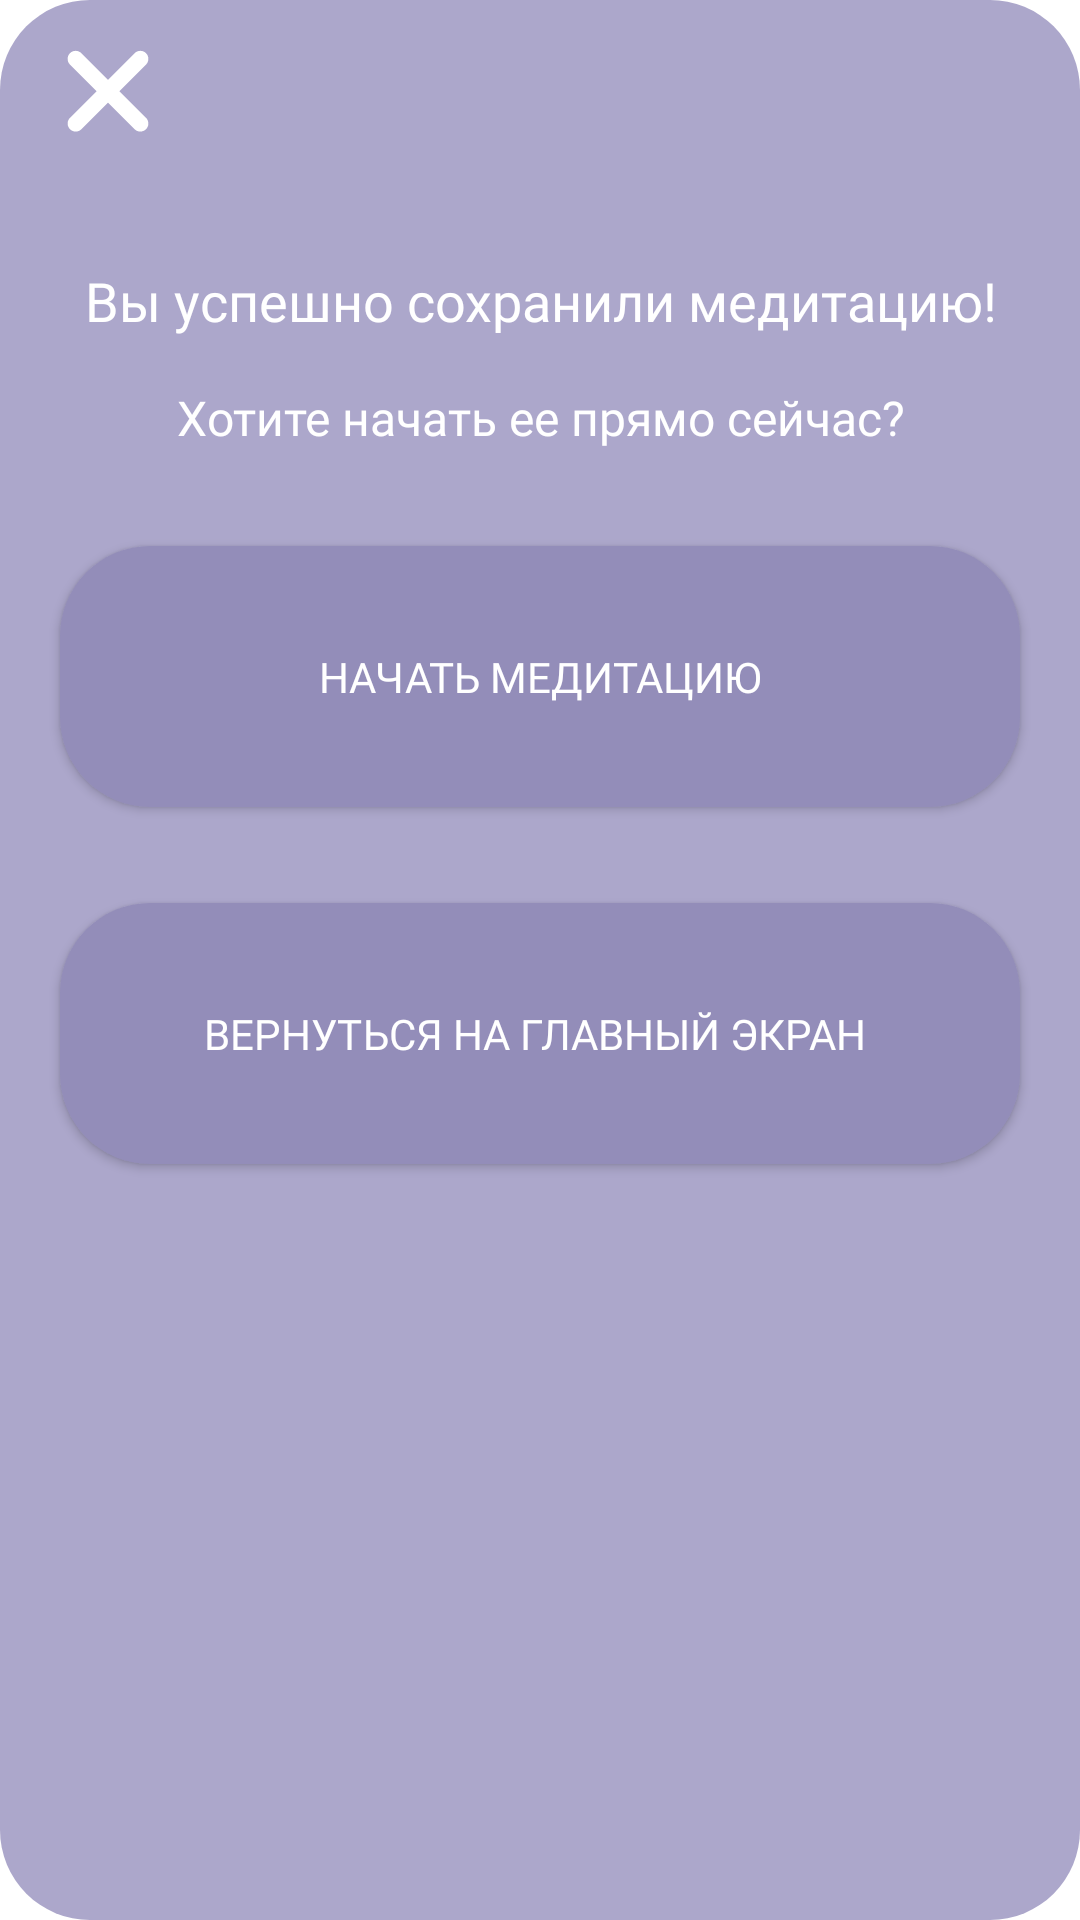

Named icons in this screenshot (1080 × 1920) and their centers, (x=x, y=y):
cross: (x=107, y=91)
